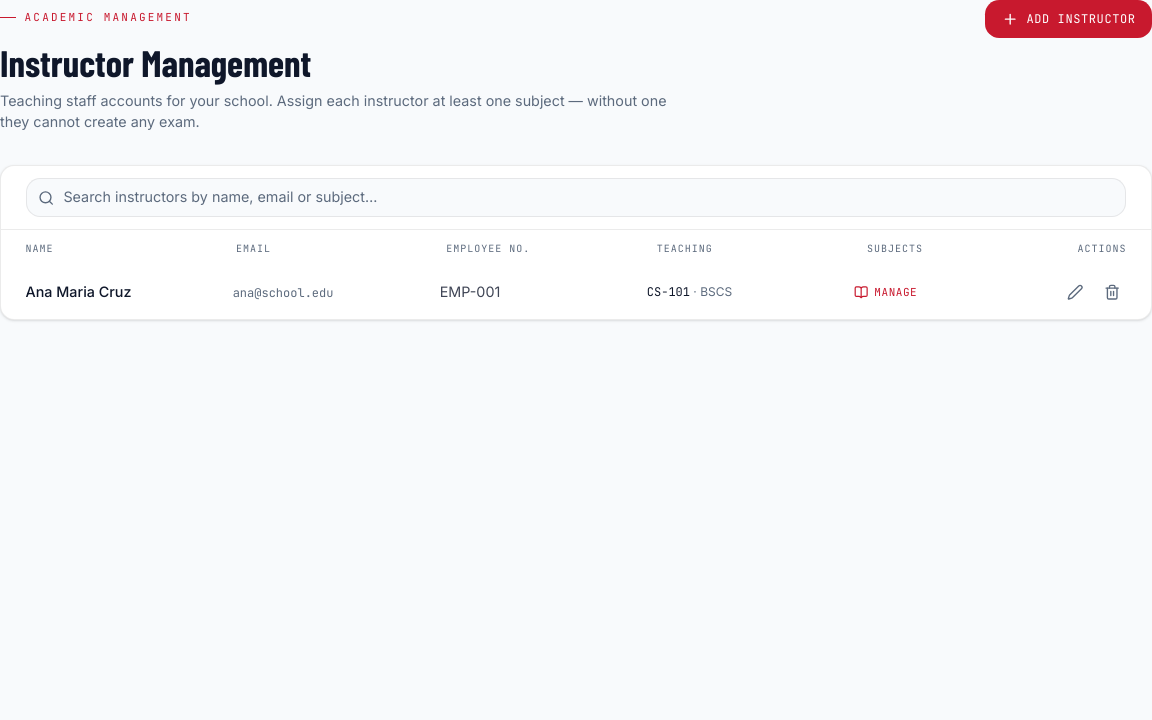
Test: Instructors — editing the whole person › fills the form with the name and email, not just the employee number
The width and height of the screenshot is (1152, 720).
Expected: the text "Ana Maria Cruz" is shown, 26,283 -> 132,300
Step 1. Click the button named "Edit" → (1075, 292), box 1061,278 -> 1090,307
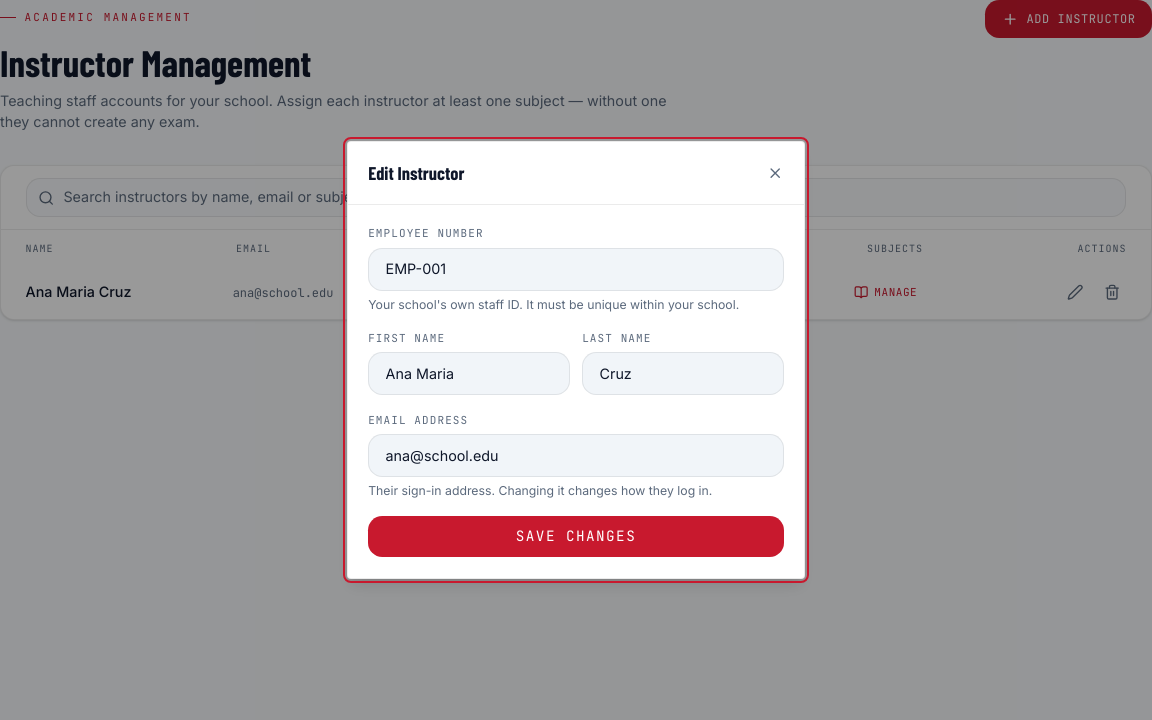
Result: the field labelled "First Name" holds "Ana Maria" at 368,352 -> 570,395
Result: the field labelled "Last Name" holds "Cruz" at 582,352 -> 784,395
Result: the field labelled "Email Address" holds "ana@school.edu" at 368,434 -> 784,477
